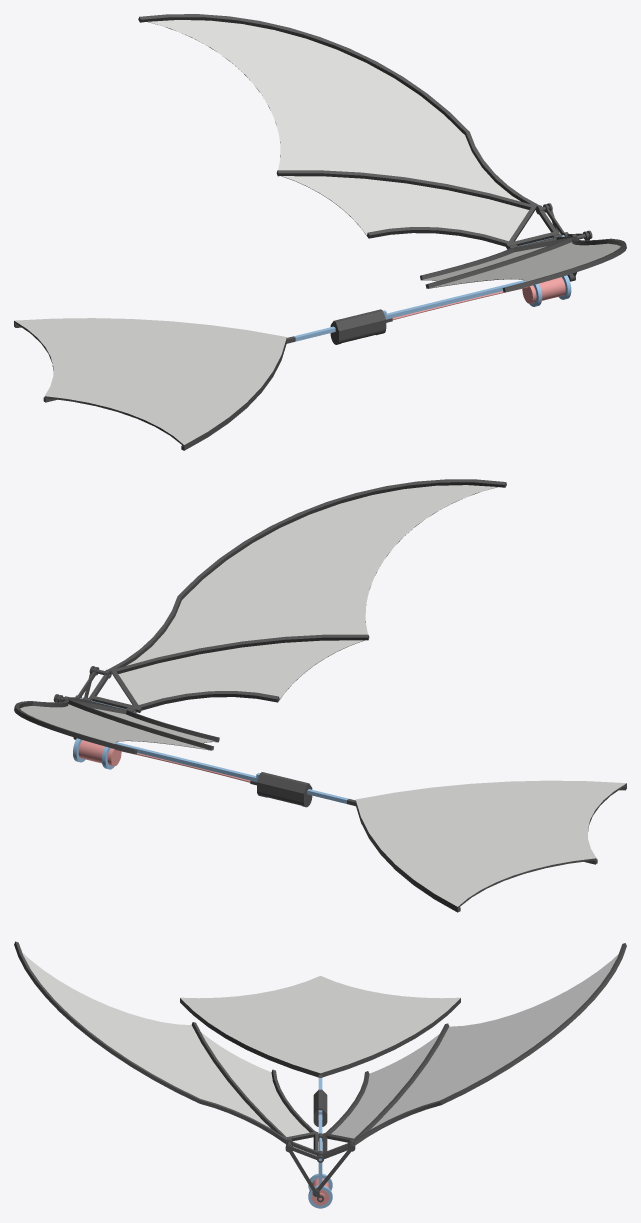
Rendered from ornithopter.glb.
3 views of the same model, one above another, from view 1: azimuth 30°, elevation 25°; view 2: azimuth 150°, elevation 25°; view 3: azimuth 270°, elevation 25° (orthographic). The views are drawn at different scales.
Parts seen in each view (by area): view 1: Left wing, Tail plane, Right wing, Main frame, Tail bracket, Fuselage shaft; view 2: Right wing, Tail plane, Left wing, Main frame, Tail bracket, Fuselage shaft; view 3: Tail plane, Right wing, Left wing, Main frame, Tail bracket.
Part boxes in pixels (bbox=[...]): Left wing: bbox=[138, 14, 561, 248]; Tail plane: bbox=[14, 318, 295, 450]; Right wing: bbox=[420, 234, 626, 292]; Main frame: bbox=[294, 235, 571, 341]; Tail bracket: bbox=[330, 309, 392, 344]; Fuselage shaft: bbox=[392, 277, 565, 319]; Right wing: bbox=[86, 479, 506, 712]; Tail plane: bbox=[347, 780, 626, 912]; Left wing: bbox=[14, 696, 219, 754]; Main frame: bbox=[73, 698, 348, 803]; Tail bracket: bbox=[250, 772, 312, 807]; Fuselage shaft: bbox=[78, 740, 250, 782]; Tail plane: bbox=[180, 976, 460, 1077]; Right wing: bbox=[14, 941, 322, 1155]; Left wing: bbox=[317, 943, 626, 1156]; Main frame: bbox=[308, 1078, 332, 1208]; Tail bracket: bbox=[313, 1089, 327, 1126].
Size of the model in its own units: 28.94 by 10.74 by 35.32.
